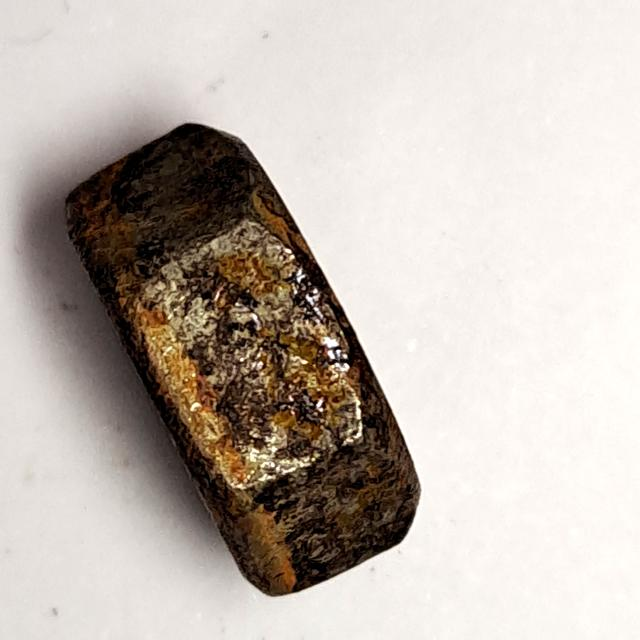Side_Rust: (45, 102, 434, 607)
